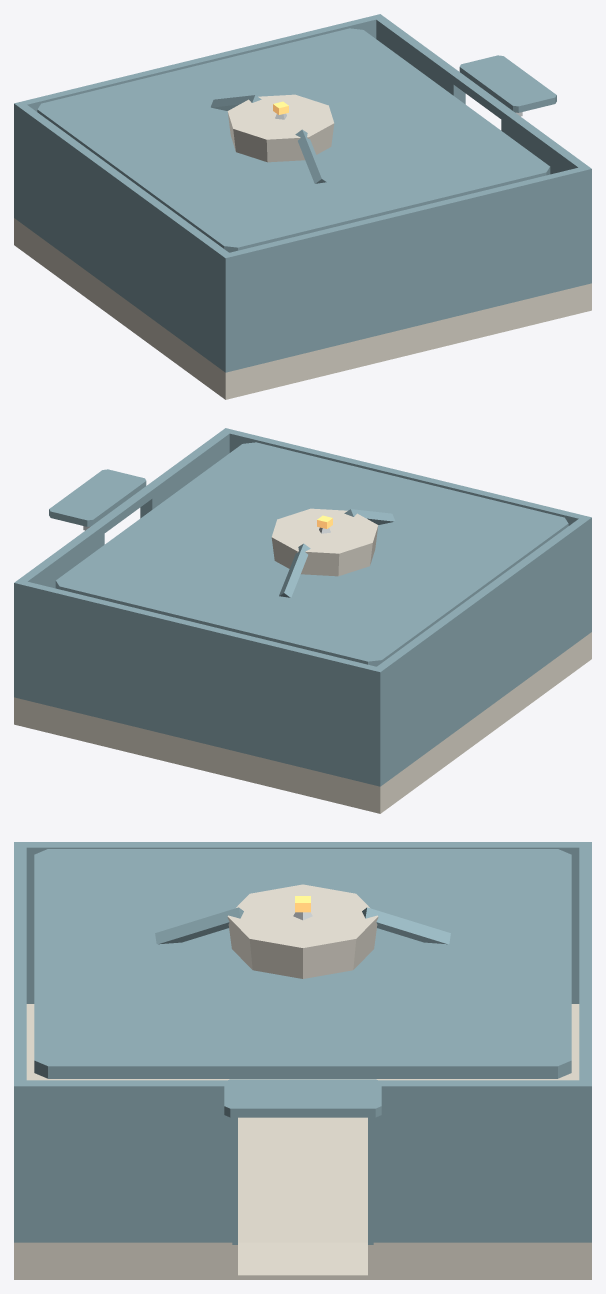
Rendered from Frontier_DecommissionedRelay_ShadowProxy.glb.
3 views of the same model, one above another, from view 1: azimuth 30°, elevation 25°; view 2: azimuth 150°, elevation 25°; view 3: azimuth 270°, elevation 25° (orthographic). The views are drawn at different scales.
Parts seen in each view (by area): view 1: Frontier_DecommissionedRelay_ShadowProxy / Structure, Frontier_DecommissionedRelay_ShadowProxy / Equipment deck, Frontier_DecommissionedRelay_ShadowProxy / Foundation, Frontier_DecommissionedRelay_ShadowProxy / Tower, Frontier_DecommissionedRelay_ShadowProxy / Entrance modules; view 2: Frontier_DecommissionedRelay_ShadowProxy / Structure, Frontier_DecommissionedRelay_ShadowProxy / Equipment deck, Frontier_DecommissionedRelay_ShadowProxy / Foundation, Frontier_DecommissionedRelay_ShadowProxy / Tower, Frontier_DecommissionedRelay_ShadowProxy / Entrance modules; view 3: Frontier_DecommissionedRelay_ShadowProxy / Equipment deck, Frontier_DecommissionedRelay_ShadowProxy / Structure, Frontier_DecommissionedRelay_ShadowProxy / Foundation, Frontier_DecommissionedRelay_ShadowProxy / Tower, Frontier_DecommissionedRelay_ShadowProxy / Entrance modules.
Boxes of the visible parts, x1=… form: Frontier_DecommissionedRelay_ShadowProxy / Structure: x1=14, y1=14, x2=591, y2=372; Frontier_DecommissionedRelay_ShadowProxy / Equipment deck: x1=37, y1=28, x2=550, y2=252; Frontier_DecommissionedRelay_ShadowProxy / Foundation: x1=14, y1=218, x2=591, y2=399; Frontier_DecommissionedRelay_ShadowProxy / Tower: x1=211, y1=94, x2=334, y2=183; Frontier_DecommissionedRelay_ShadowProxy / Entrance modules: x1=456, y1=55, x2=556, y2=116; Frontier_DecommissionedRelay_ShadowProxy / Structure: x1=14, y1=428, x2=591, y2=786; Frontier_DecommissionedRelay_ShadowProxy / Equipment deck: x1=55, y1=442, x2=568, y2=666; Frontier_DecommissionedRelay_ShadowProxy / Foundation: x1=14, y1=632, x2=591, y2=813; Frontier_DecommissionedRelay_ShadowProxy / Tower: x1=271, y1=508, x2=394, y2=597; Frontier_DecommissionedRelay_ShadowProxy / Entrance modules: x1=49, y1=469, x2=149, y2=530; Frontier_DecommissionedRelay_ShadowProxy / Equipment deck: x1=34, y1=849, x2=571, y2=1078; Frontier_DecommissionedRelay_ShadowProxy / Structure: x1=14, y1=842, x2=591, y2=1242; Frontier_DecommissionedRelay_ShadowProxy / Foundation: x1=14, y1=1004, x2=591, y2=1279; Frontier_DecommissionedRelay_ShadowProxy / Tower: x1=155, y1=884, x2=450, y2=978; Frontier_DecommissionedRelay_ShadowProxy / Entrance modules: x1=224, y1=1079, x2=381, y2=1279.
Bounding box in the file's own units: 11.2 × 4.65 × 10.
